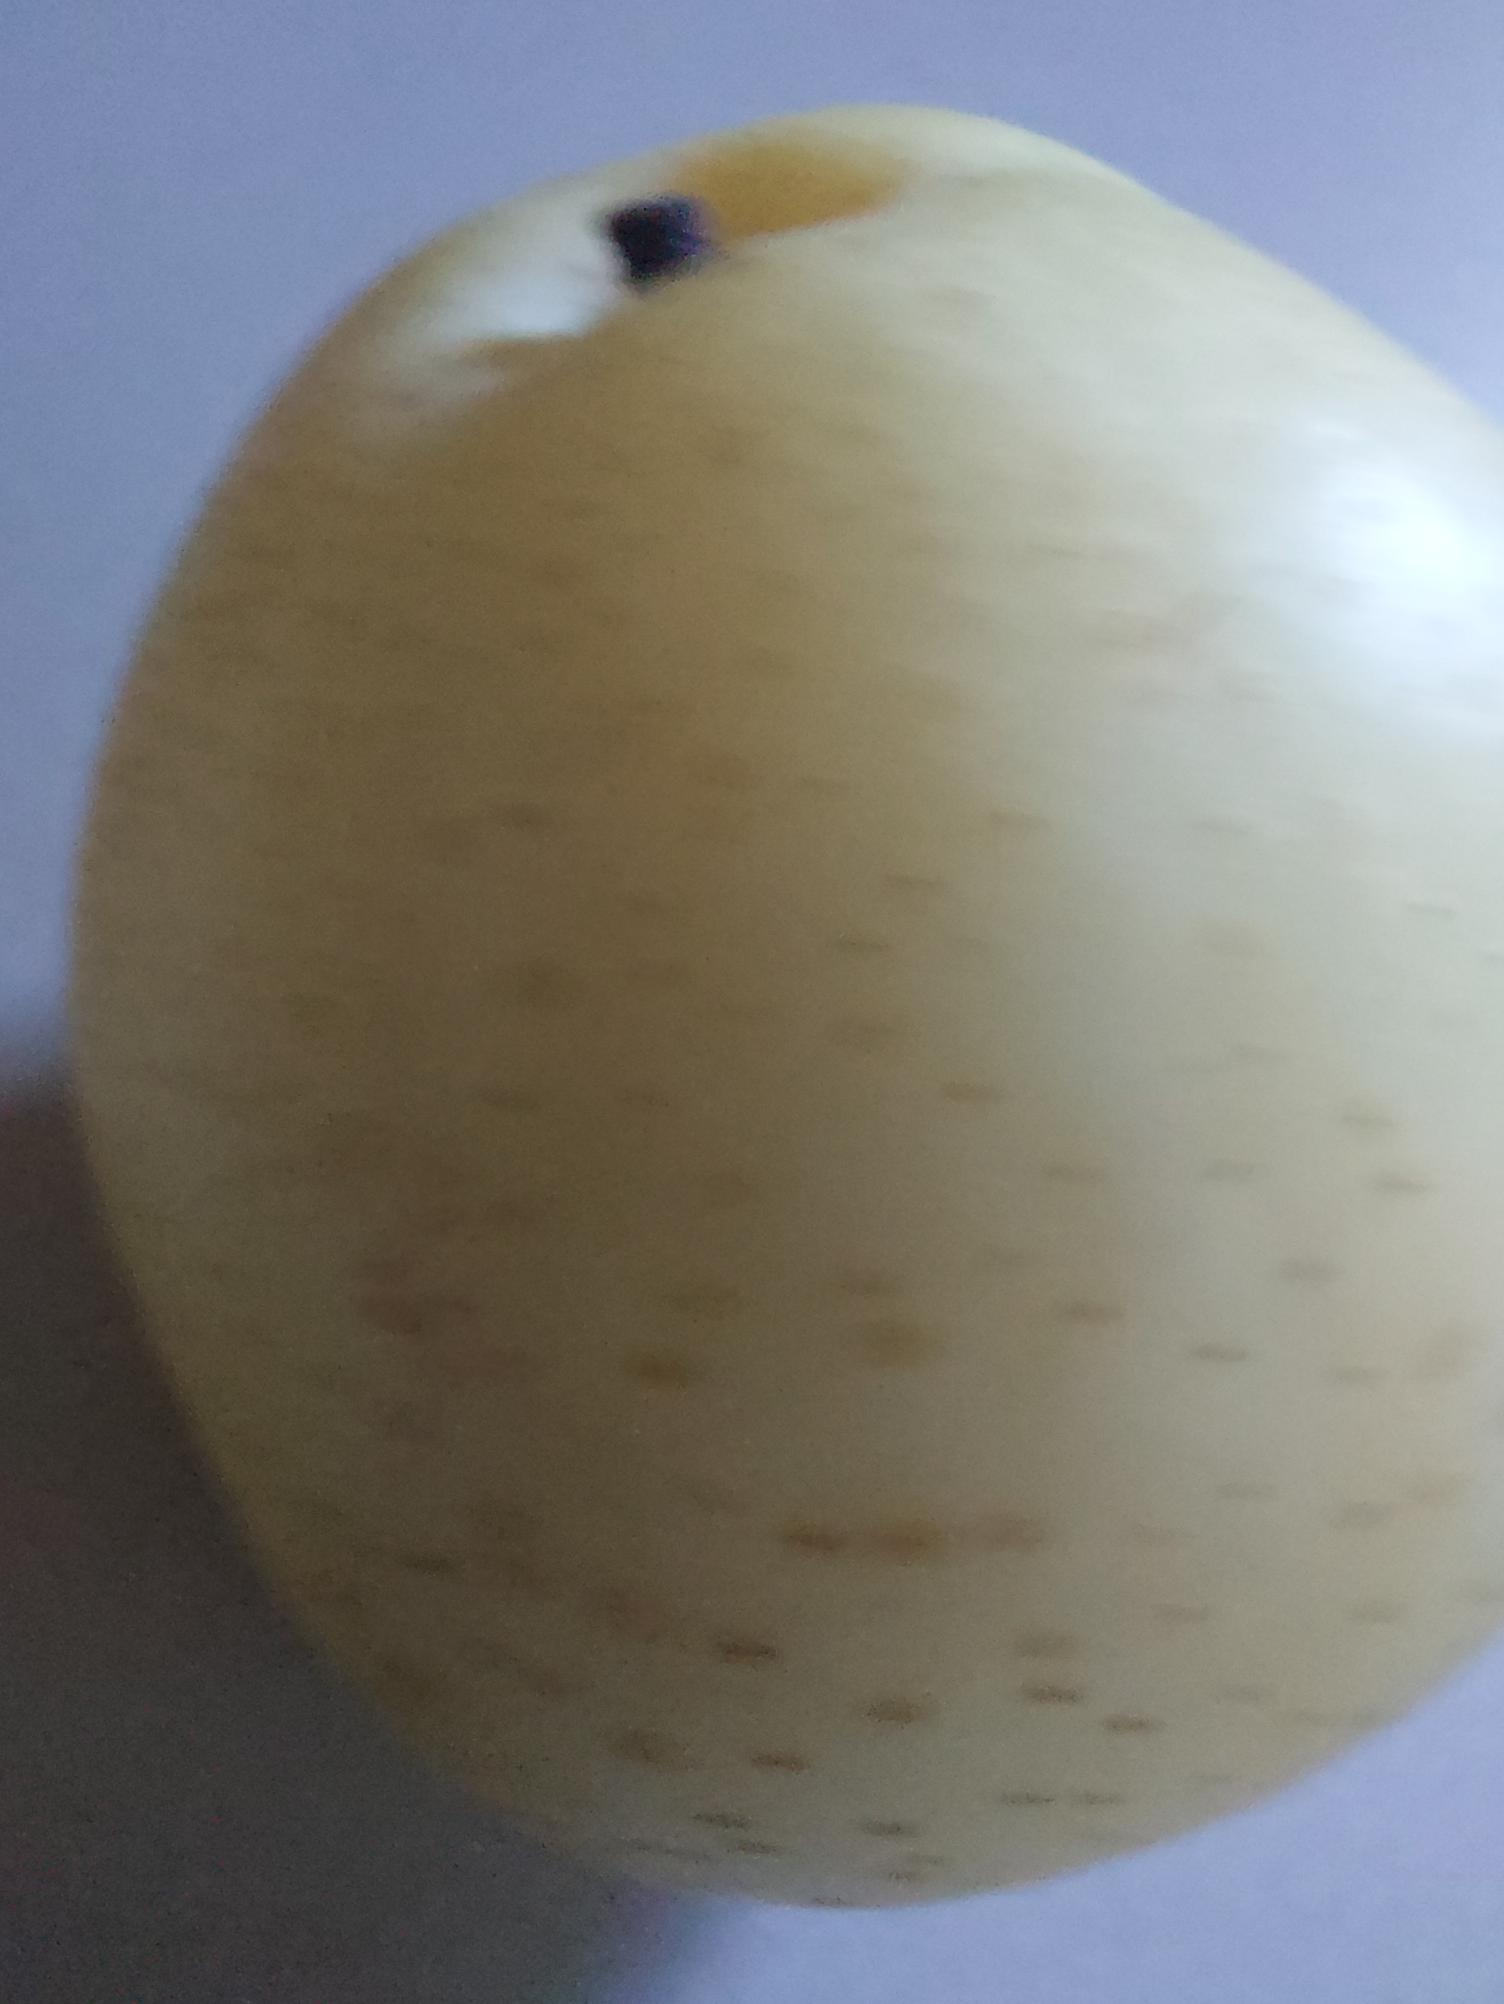Good Pear: (46, 0, 1504, 1993)
